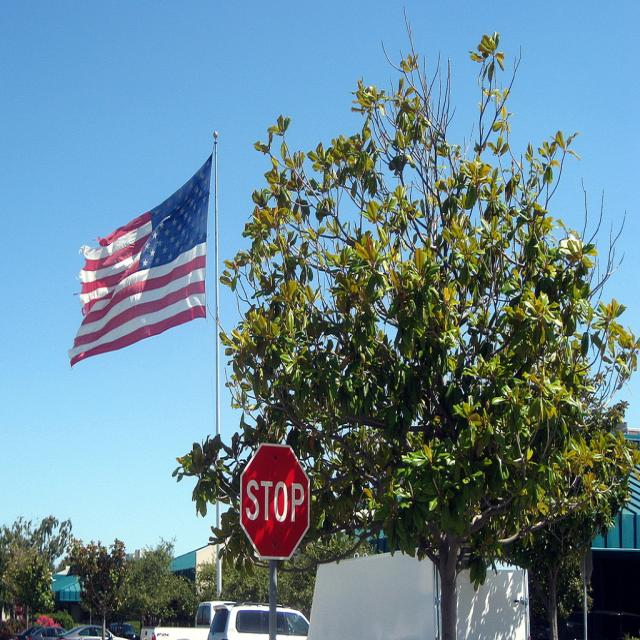Stop-sign: (239, 441, 311, 562)
